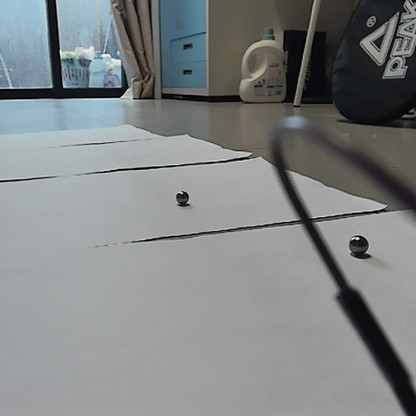ironball: (346, 232, 368, 254), (173, 187, 188, 206)
